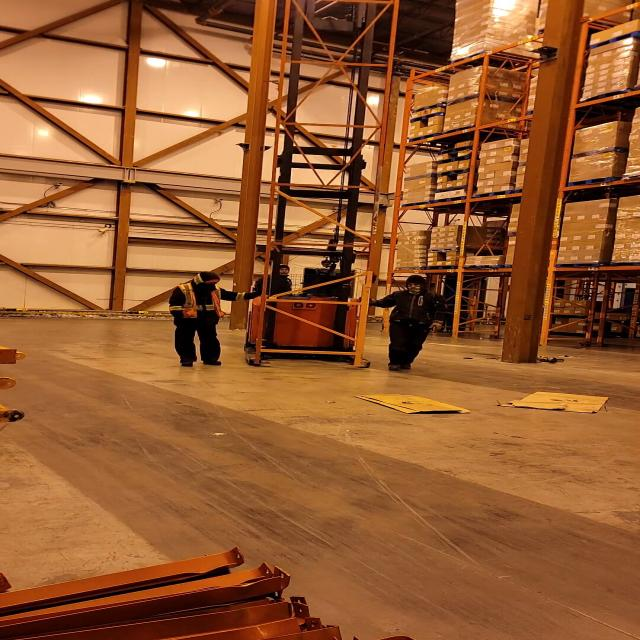forklift: (236, 152, 380, 372)
human: (167, 270, 260, 368), (368, 268, 452, 372), (254, 262, 308, 293)
objectofinterest: (240, 11, 404, 372), (343, 389, 479, 419), (493, 390, 614, 412)
